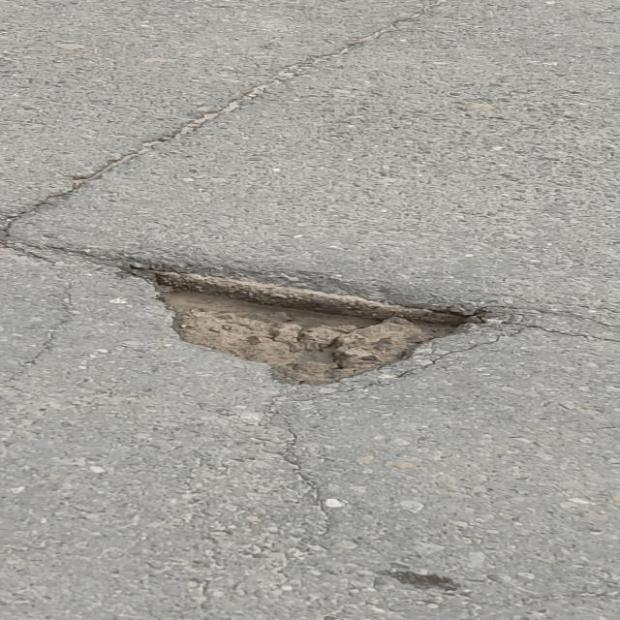lubang: (136, 265, 486, 384)
